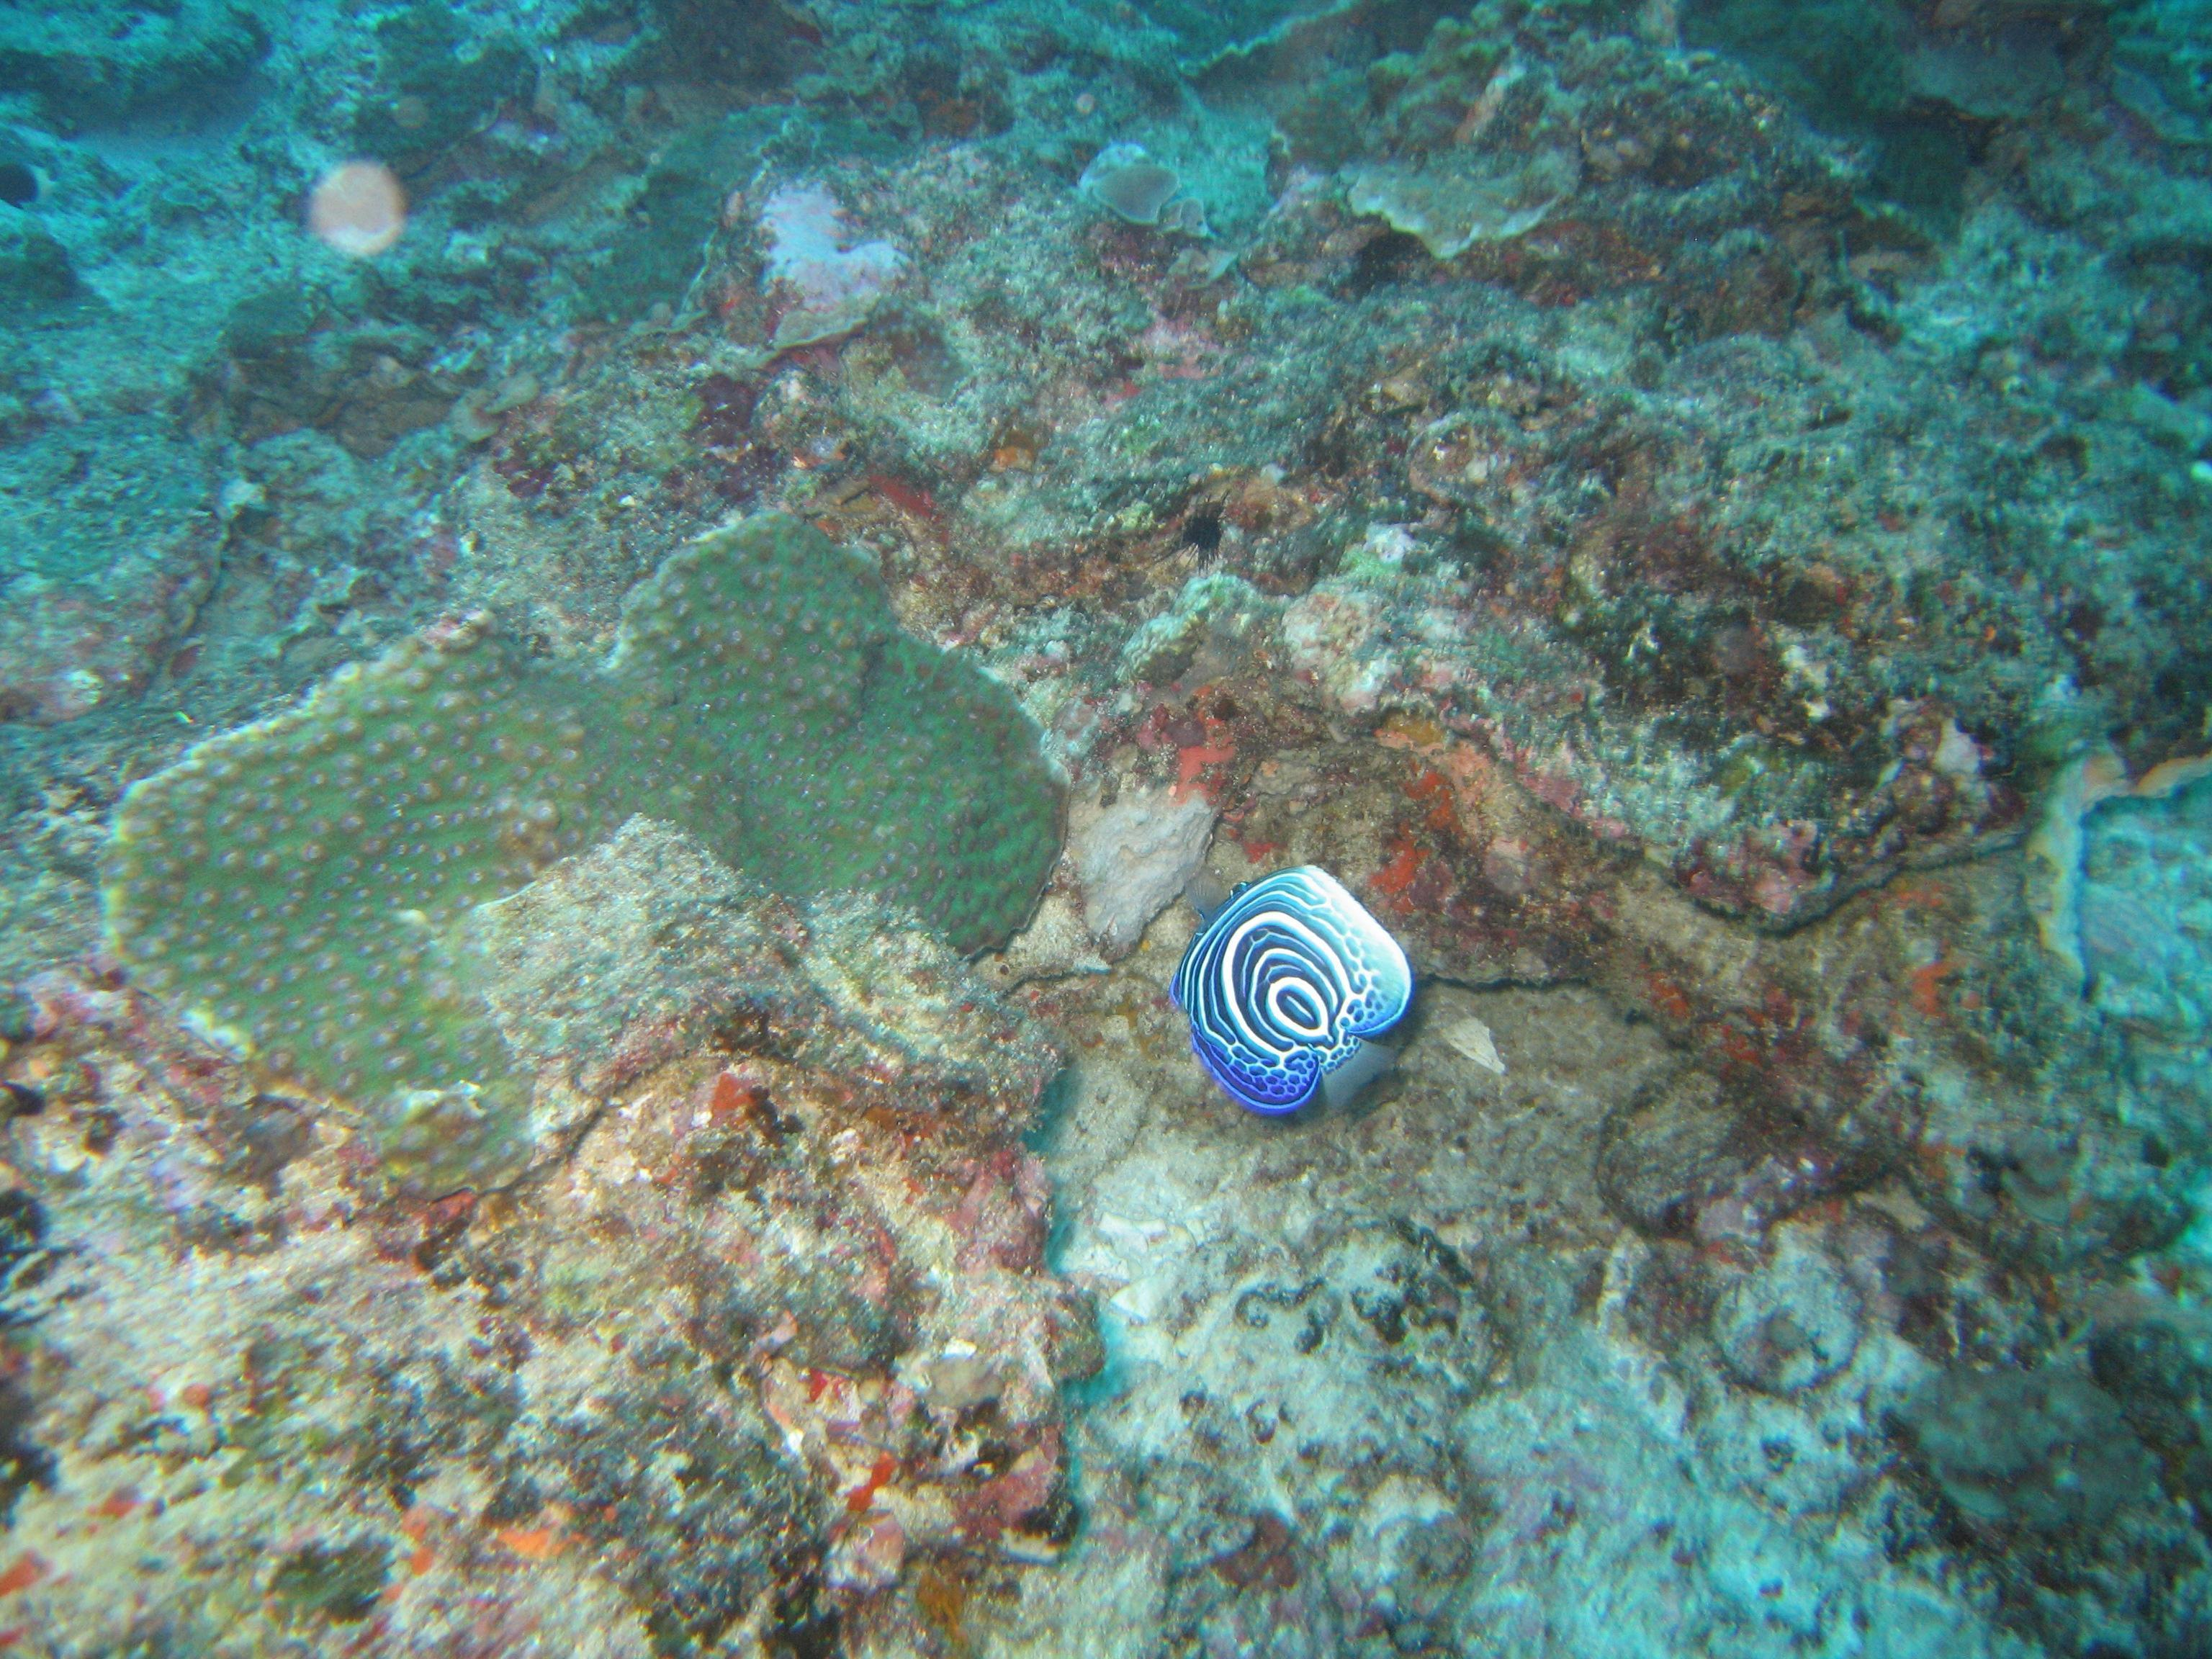Fish: (1099, 817, 1510, 1175)
